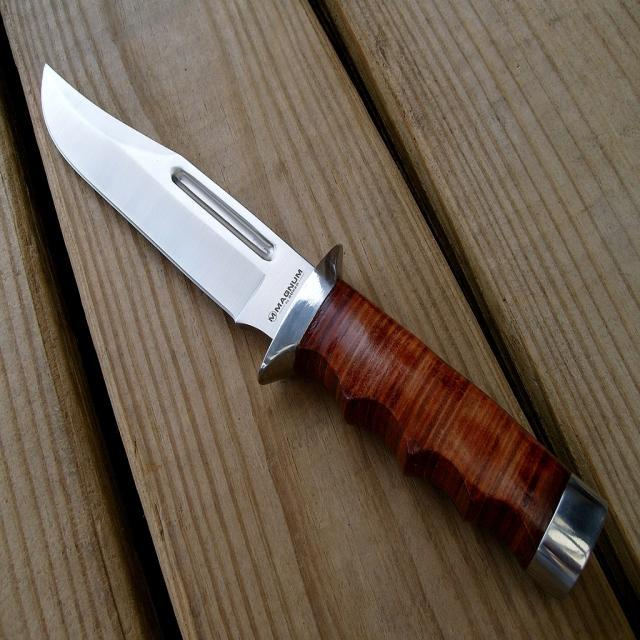Knife: (41, 65, 608, 594)
